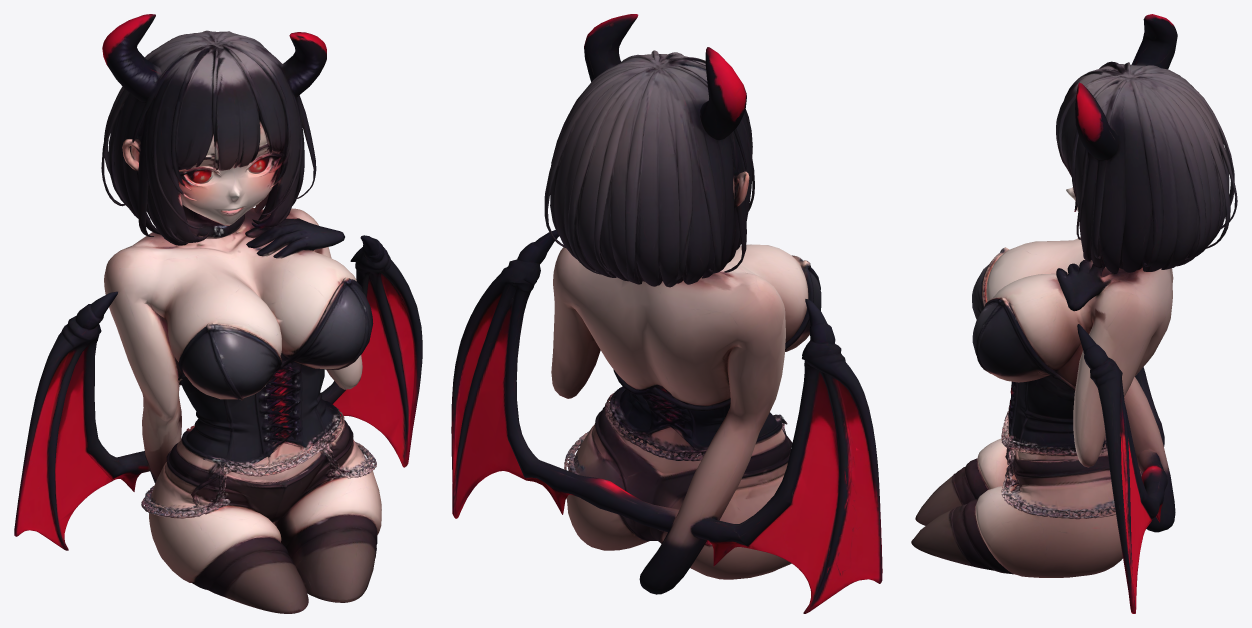
The picture shows the model from 3 angles, left to right: view 1: azimuth 30°, elevation 25°; view 2: azimuth 150°, elevation 25°; view 3: azimuth 270°, elevation 25°; orthographic projection. The views are drawn at different scales.
Parts seen in each view (by area): view 1: node_0; view 2: node_0; view 3: node_0.
Part boxes in pixels (x1,y1,x2,y2): node_0: (14, 14, 422, 613); node_0: (451, 14, 882, 613); node_0: (911, 14, 1237, 613).
Bounding box in the file's own units: 0.7833 × 0.9559 × 0.5721.
1 material, 1 textured.
